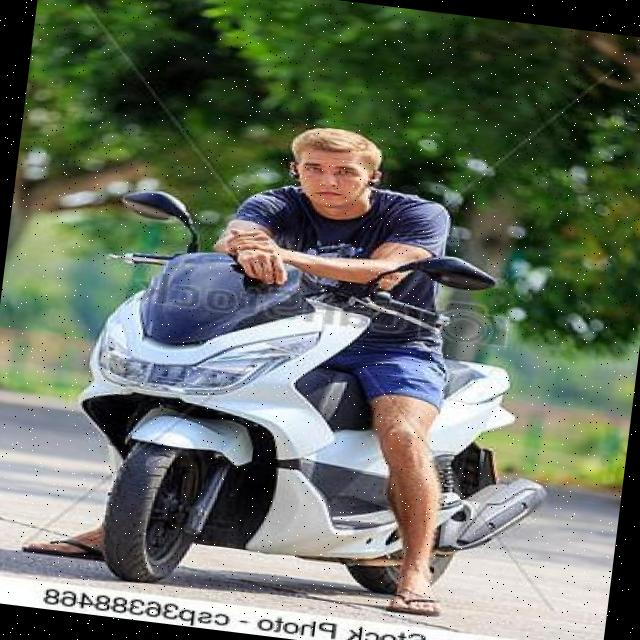No helmet: (273, 112, 394, 228)
